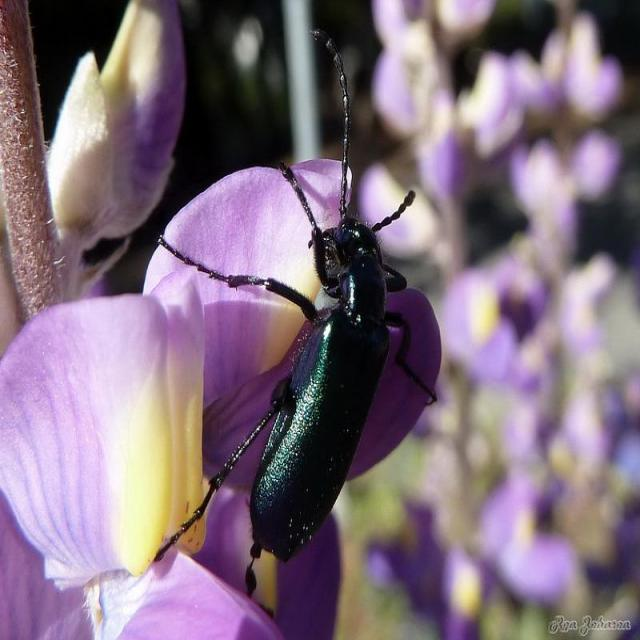BlisterBeetle-Adult-: (187, 23, 436, 590)
